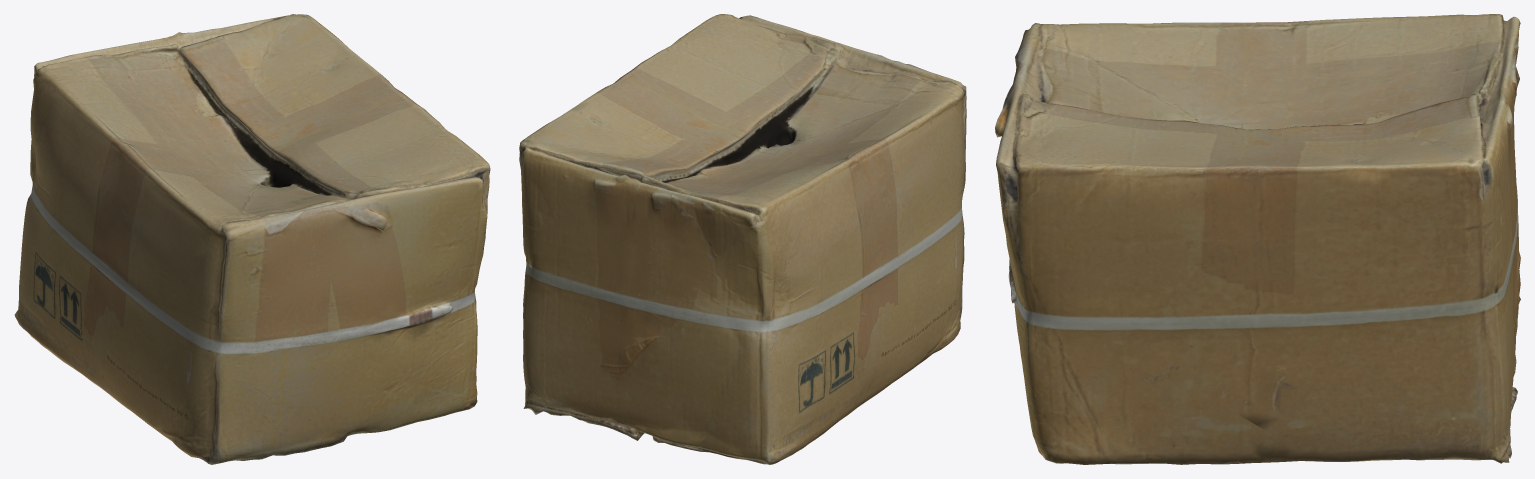
The model's file is cardboard_box_01.fbx.
3 views of the same model, side by side, from view 1: azimuth 30°, elevation 25°; view 2: azimuth 150°, elevation 25°; view 3: azimuth 270°, elevation 25° (orthographic). The views are drawn at different scales.
Parts seen in each view (by area): view 1: cardboard_box_01; view 2: cardboard_box_01; view 3: cardboard_box_01.
Part boxes in pixels (<box>): cardboard_box_01: <box>14,14,490,464</box>; cardboard_box_01: <box>519,14,966,464</box>; cardboard_box_01: <box>995,14,1520,464</box>.
Bounding box in the file's own units: 38.7 × 34.18 × 51.59.
